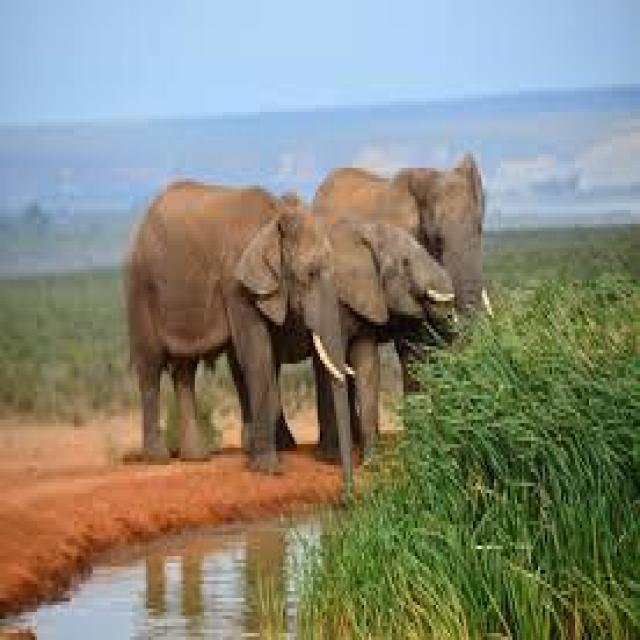Elephant: (116, 178, 357, 500)
